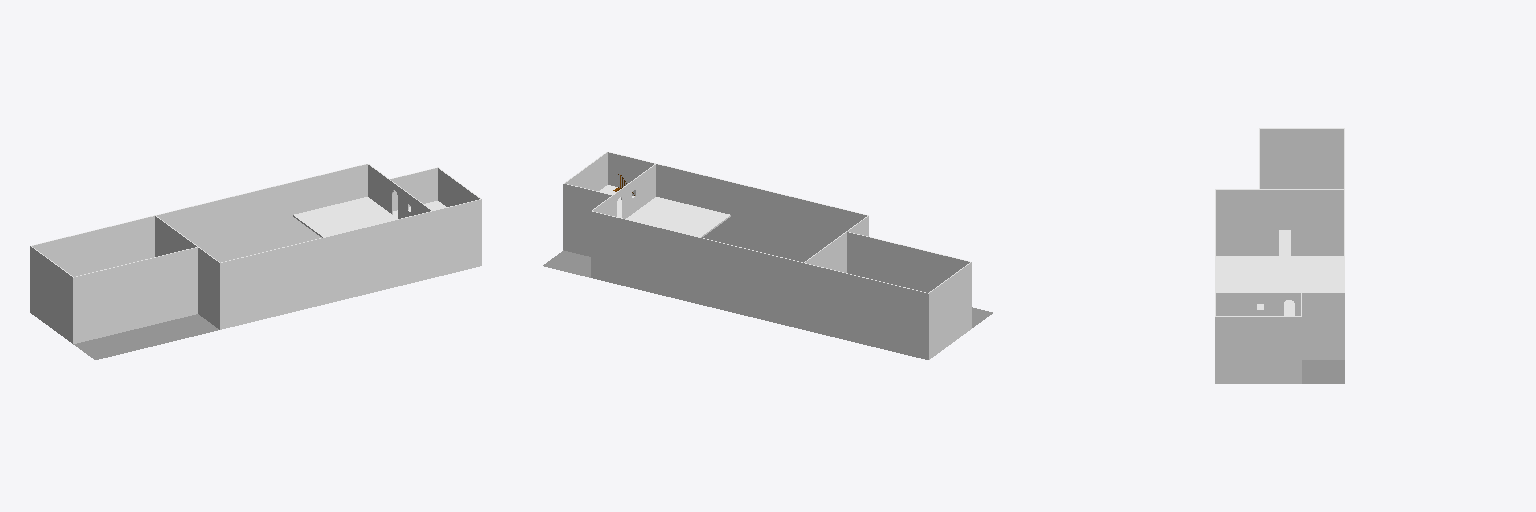
File: casaprueba.obj
3 views of the same model, side by side, from view 1: azimuth 30°, elevation 25°; view 2: azimuth 150°, elevation 25°; view 3: azimuth 270°, elevation 25° (orthographic).
Parts seen in each view (by area): view 1: wall_14_82, wall_18_107, wall_7_40, wall_16_94, wall_3_16, wall_5_29, ground_1, wall_12_71, room_27_143, wall_23_136, wall_11_64, wall_17_100 (+8 smaller); view 2: wall_5_28, wall_18_106, wall_14_83, wall_16_95, wall_1_4, wall_7_41, wall_12_70, wall_19_113, room_27_143, wall_17_100, wall_13_77, wall_4_22 (+7 smaller); view 3: room_25_141, wall_13_76, wall_22_130, wall_10_58, wall_20_118, wall_17_101, wall_2_10, wall_4_23, wall_15_89, wall_6_34, wall_8_47, ground_1 (+1 smaller).
Part boxes in pixels (left/top/right/bottom): wall_14_82: left=220, top=211, right=432, bottom=296; wall_18_107: left=32, top=182, right=292, bottom=271; wall_7_40: left=220, top=246, right=432, bottom=329; wall_16_94: left=73, top=247, right=197, bottom=311; wall_3_16: left=73, top=281, right=197, bottom=343; wall_5_29: left=67, top=217, right=321, bottom=276; ground_1: left=73, top=314, right=218, bottom=359; wall_12_71: left=293, top=164, right=367, bottom=214; room_27_143: left=293, top=197, right=397, bottom=237; wall_23_136: left=433, top=199, right=481, bottom=244; wall_11_64: left=433, top=234, right=481, bottom=277; wall_17_100: left=30, top=246, right=72, bottom=310; wall_5_28: left=591, top=246, right=928, bottom=359; wall_18_106: left=666, top=230, right=928, bottom=327; wall_14_83: left=656, top=164, right=866, bottom=240; wall_16_95: left=847, top=232, right=969, bottom=287; wall_1_4: left=803, top=297, right=927, bottom=359; wall_7_41: left=702, top=217, right=832, bottom=262; wall_12_70: left=591, top=211, right=665, bottom=263; wall_19_113: left=666, top=231, right=803, bottom=296; room_27_143: left=626, top=197, right=730, bottom=237; wall_17_100: left=929, top=262, right=971, bottom=326; wall_13_77: left=593, top=165, right=655, bottom=218; wall_4_22: left=929, top=297, right=971, bottom=359; room_25_141: left=1216, top=256, right=1343, bottom=288; wall_13_76: left=1216, top=293, right=1344, bottom=326; wall_22_130: left=1215, top=317, right=1301, bottom=350; wall_10_58: left=1215, top=351, right=1301, bottom=383; wall_20_118: left=1259, top=190, right=1343, bottom=223; wall_17_101: left=1260, top=129, right=1343, bottom=162; wall_2_10: left=1259, top=224, right=1343, bottom=255; wall_4_23: left=1260, top=163, right=1343, bottom=188; wall_15_89: left=1216, top=190, right=1259, bottom=223; wall_6_34: left=1302, top=327, right=1344, bottom=359; wall_8_47: left=1216, top=224, right=1262, bottom=255; ground_1: left=1302, top=360, right=1344, bottom=383.
Bounding box in the file's own units: 3102 × 512 × 908.